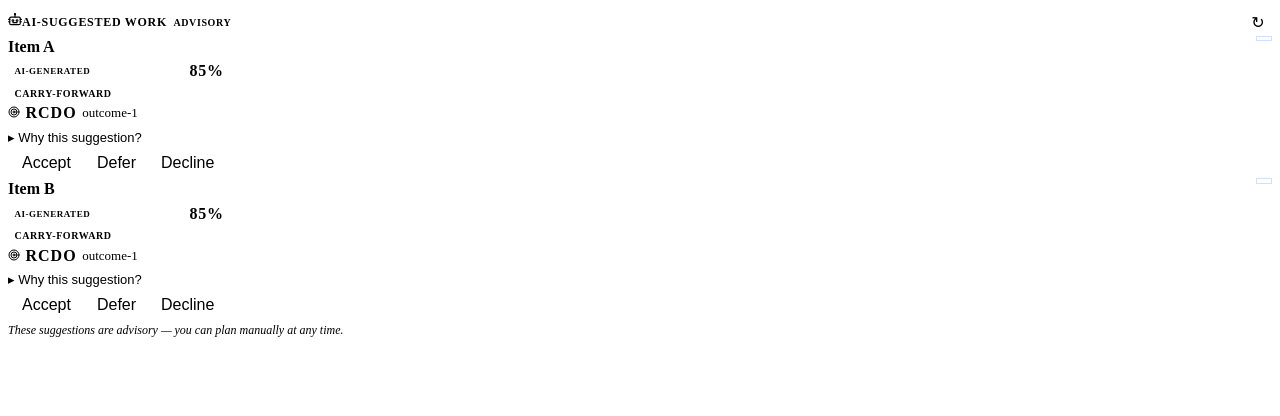
Test: NextWorkSuggestionPanel › each suggestion has independent 'Why?' expand state
# Expand s1 only
Click the button with test id "next-work-why-toggle-s1".
click(75, 138)  # box [8,129,142,147]
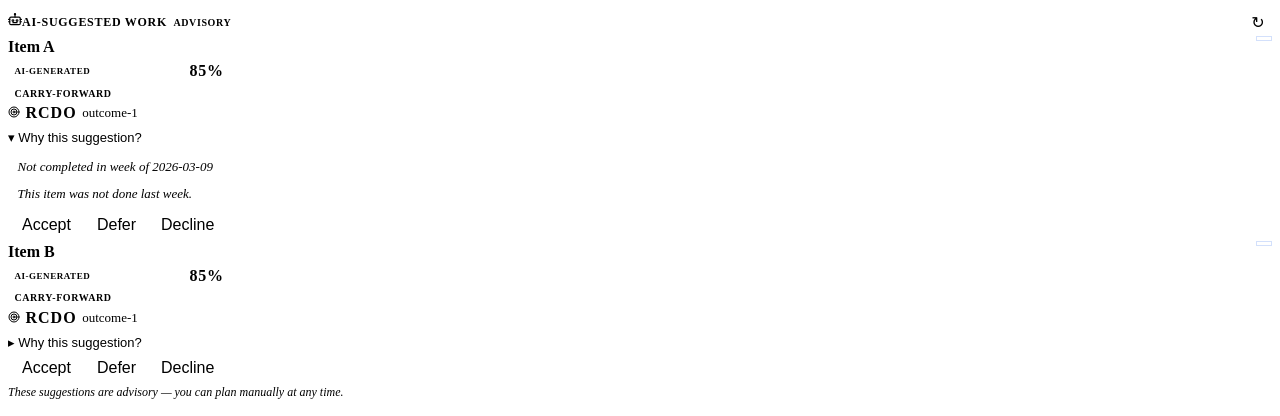
Now the element with test id "next-work-why-content-s1" is shown, box [18,158,213,201]
